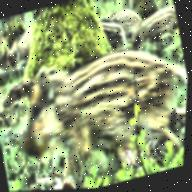boar: (0, 23, 190, 192)
